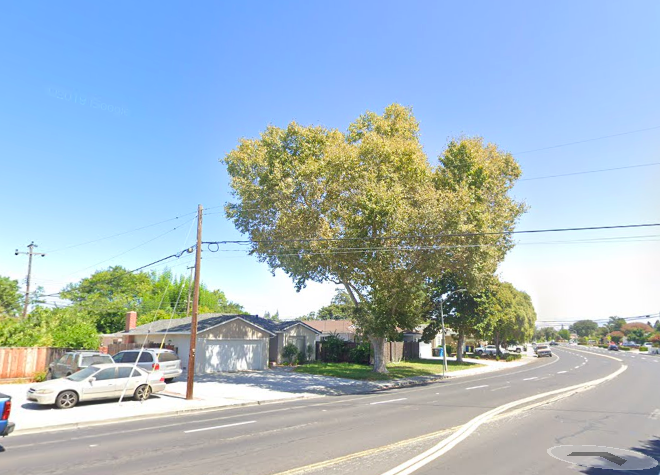tree: (217, 100, 532, 375)
utility_pole: (176, 196, 222, 279)
